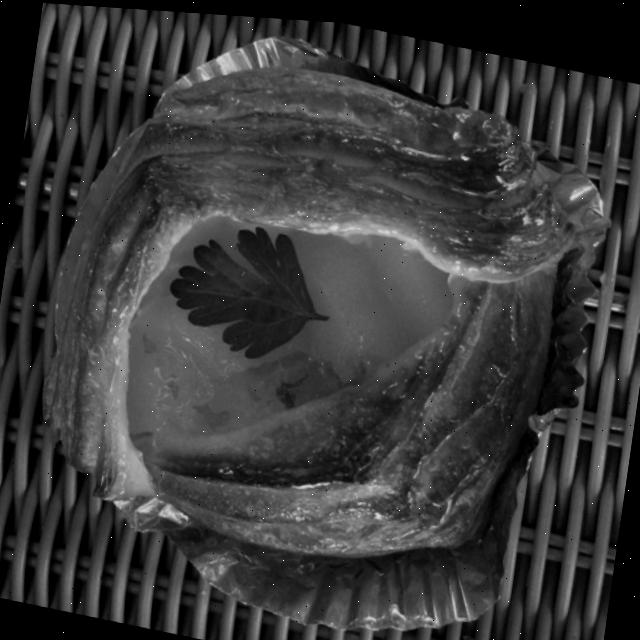三明治: (6, 8, 605, 620)
